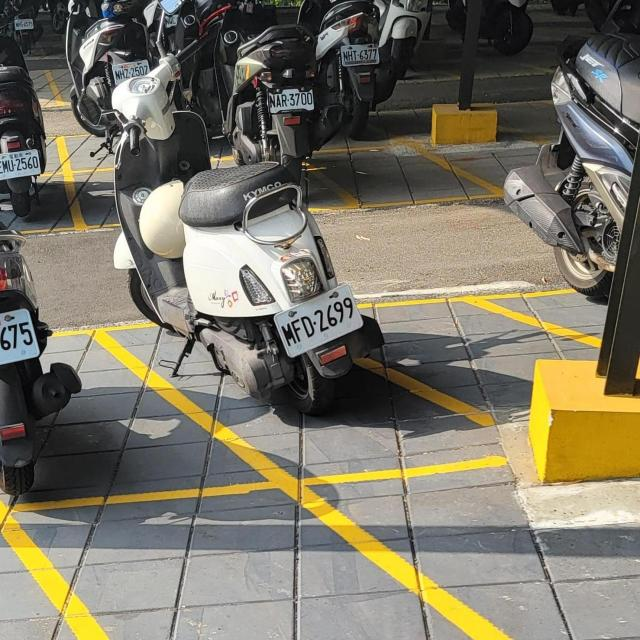W: (270, 283, 366, 357), (0, 308, 42, 376), (266, 84, 318, 114), (0, 148, 44, 181), (339, 41, 386, 68), (110, 58, 152, 84), (10, 15, 35, 32)
